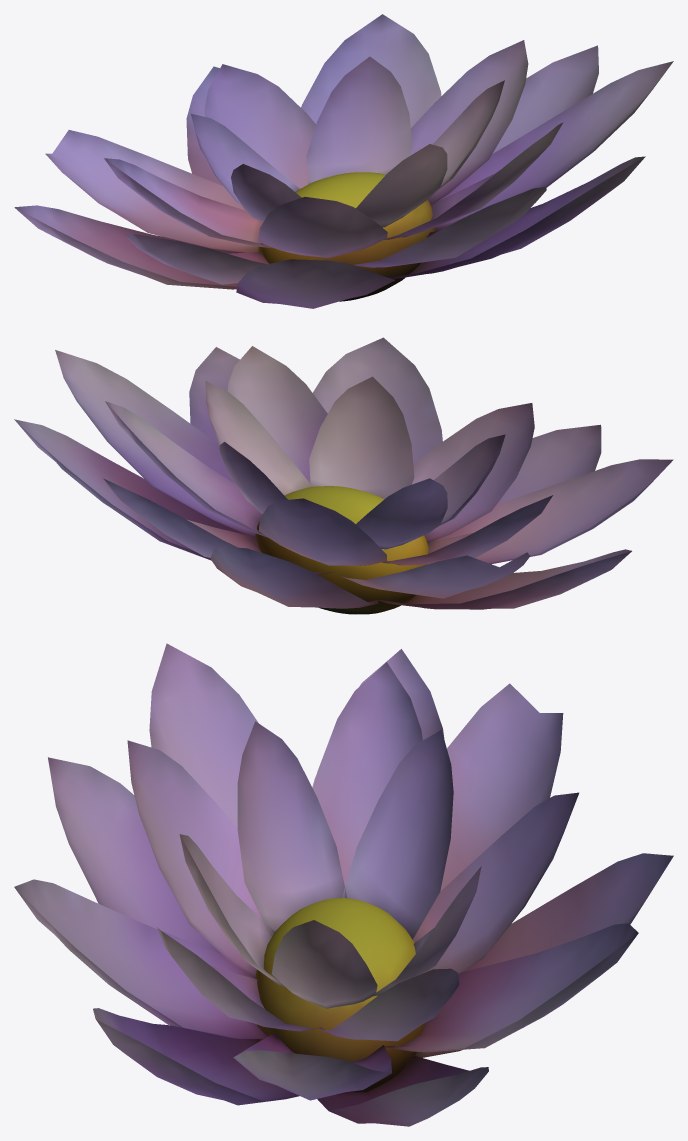
The model's file is Swamp_WaterLily.glb.
The picture shows the model from 3 angles, top to bottom: view 1: azimuth 30°, elevation 25°; view 2: azimuth 150°, elevation 25°; view 3: azimuth 270°, elevation 25°; orthographic projection. The views are drawn at different scales.
Parts seen in each view (by area): view 1: Cube.012; view 2: Cube.012; view 3: Cube.012.
Part boxes in pixels (bbox=[...]): Cube.012: bbox=[14, 14, 673, 308]; Cube.012: bbox=[14, 337, 673, 614]; Cube.012: bbox=[14, 643, 673, 1126].
Size of the model in its own units: 50.51 by 14.39 by 32.2.
1 material, 1 textured.
